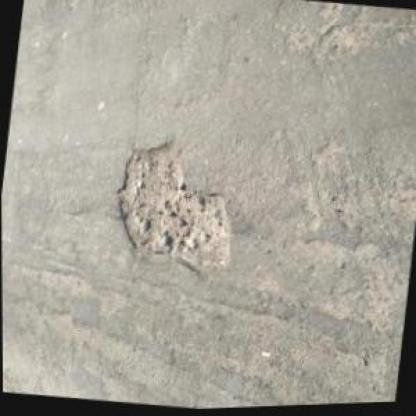pothole: (105, 130, 247, 284)
